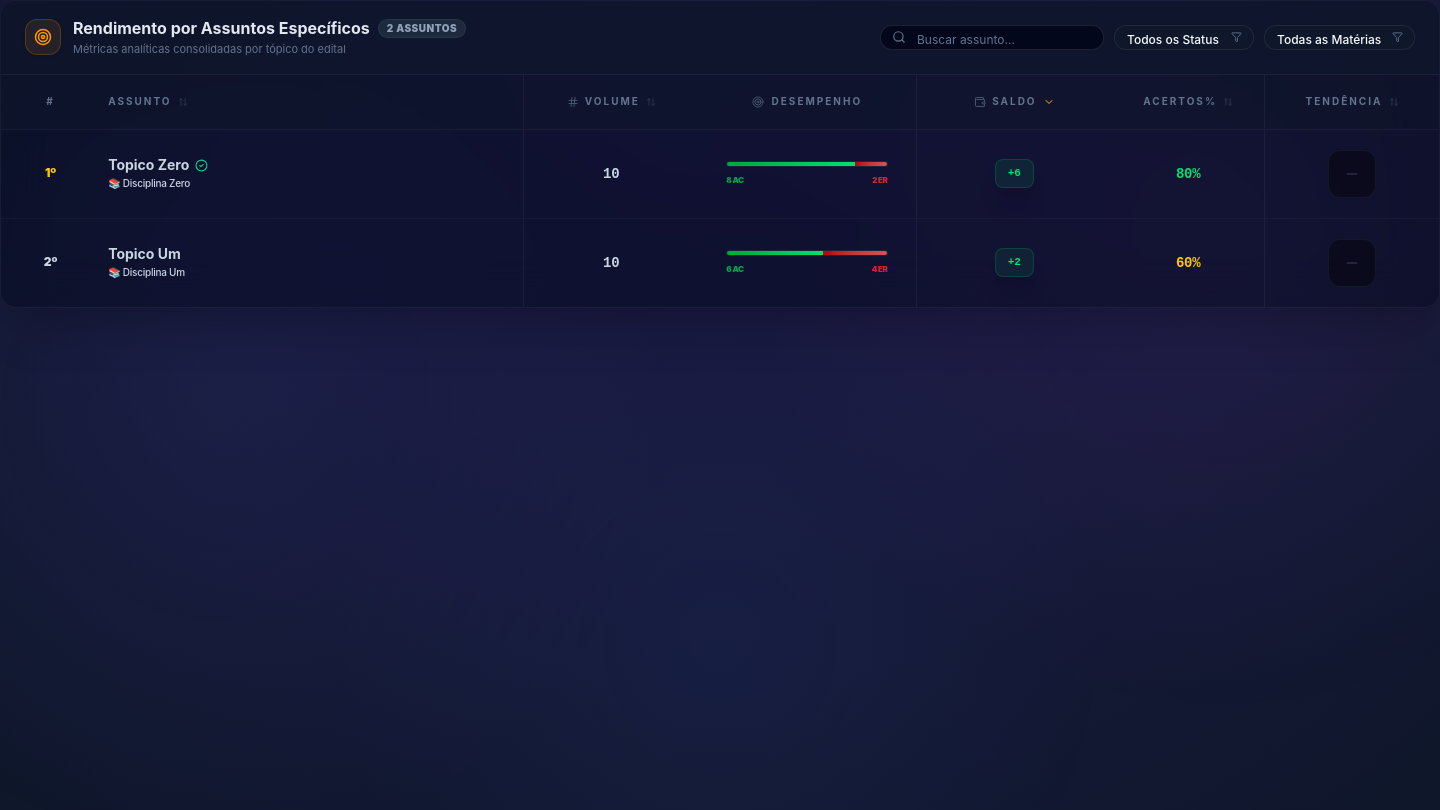
Scenario: Audited Bug Fixes Regression Suite › SubtopicsTable handles numeric category id 0 in discipline filter and wraps completed icon with accessible title
This screenshot has width=1440, height=810.
Select "Disciplina Zero" in the dropdown named "Filtrar por disciplina" at (1340, 37), box left=1264, top=25, right=1415, bottom=50
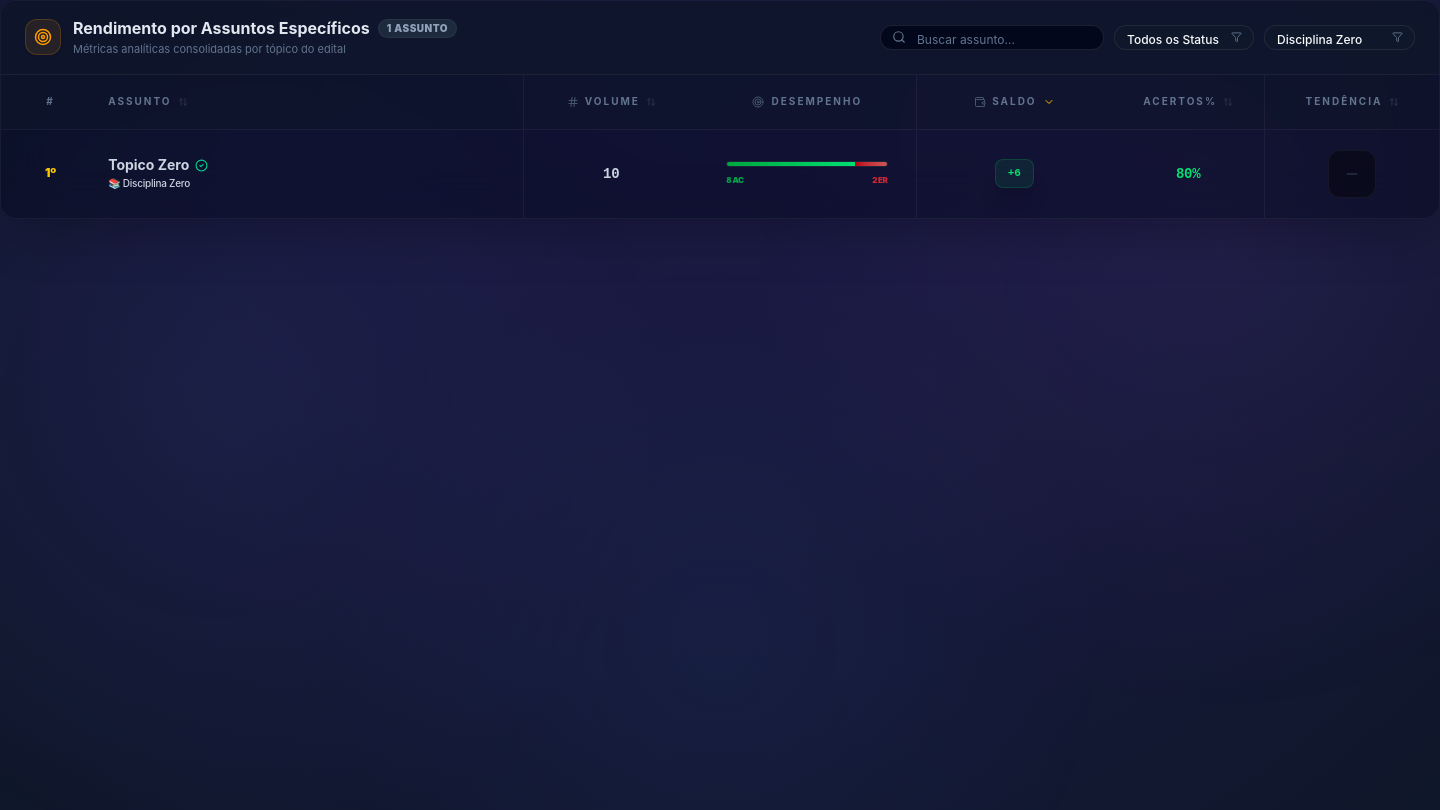
expect the text "Topico Zero" is shown: met, box left=108, top=156, right=189, bottom=176
expect the text "Topico Um" is gone: met
